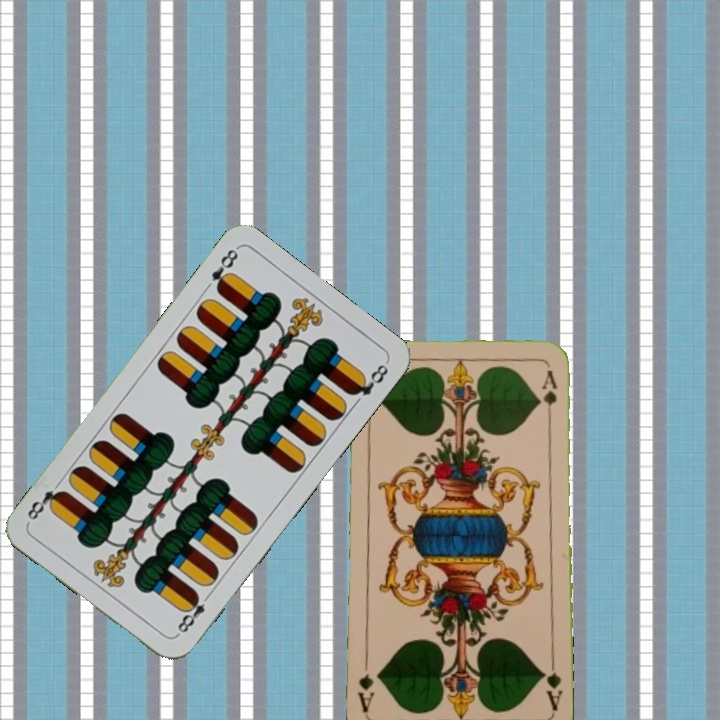E8: (172, 589, 214, 639), (207, 244, 241, 296)
GA: (538, 654, 565, 713)
